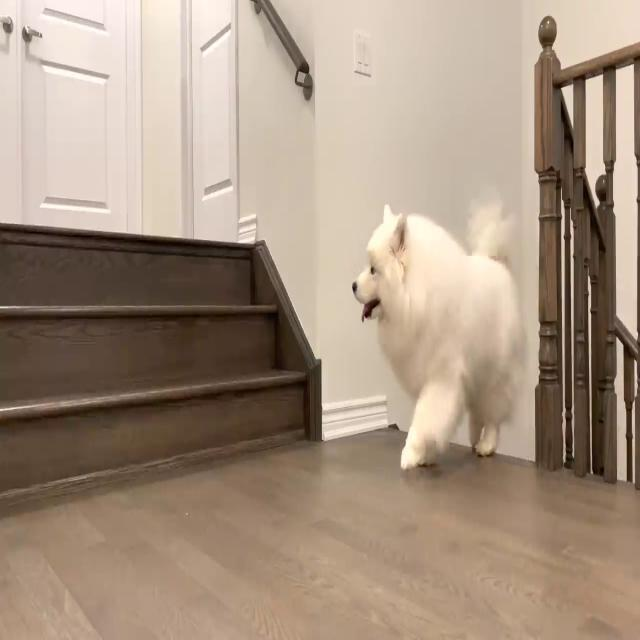Dog: (351, 192, 531, 472)
